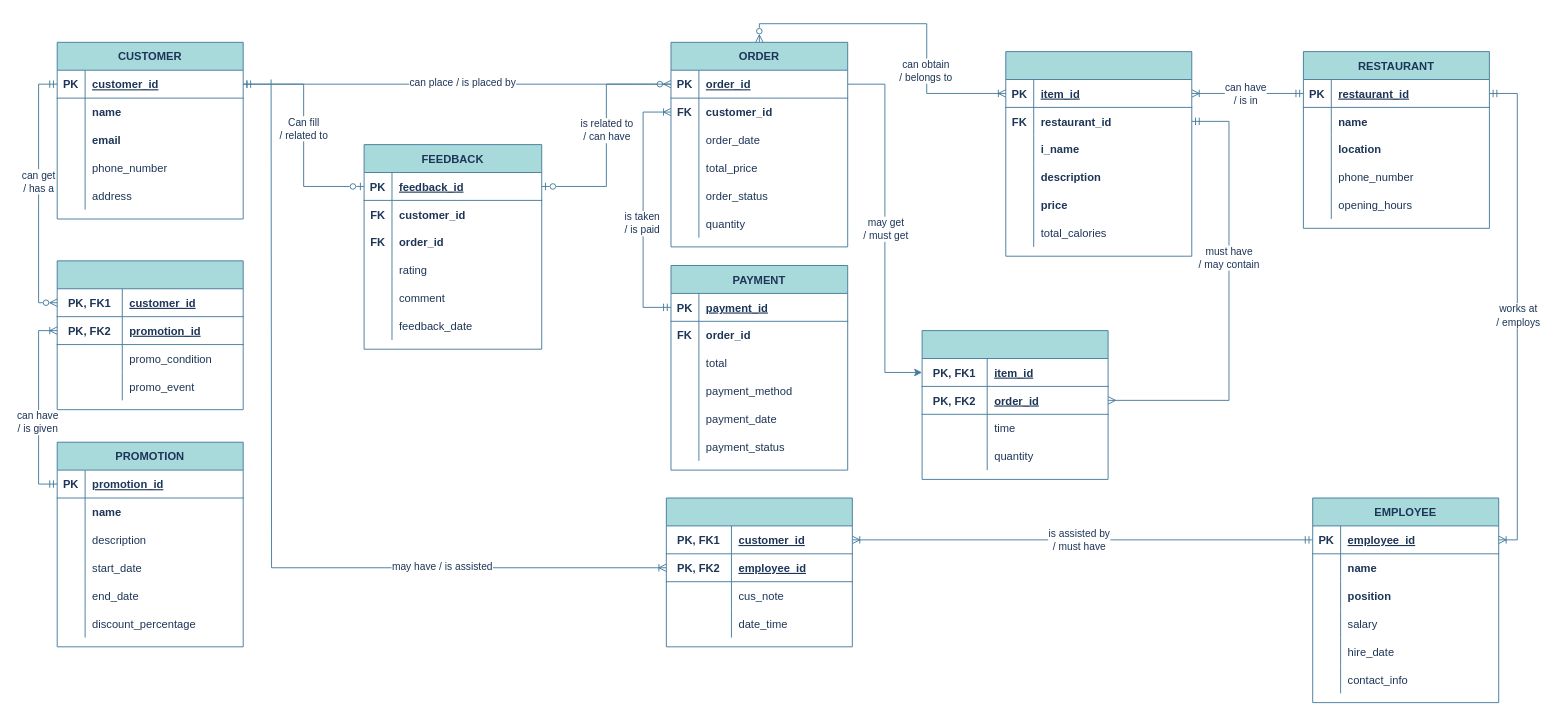
This 1556x719 diagram has some shape labels left out. Here are the shapes that lost their labels. From the top down, the box of each, then its label:
(1005, 51, 1192, 256): MENU_ITEM
(56, 260, 243, 410): CUSTOMER_PROMOTION
(921, 330, 1108, 479): MENU_ITEM_ORDER
(665, 497, 852, 647): CUSTOMER_EMPLOYEE
